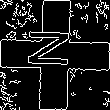N_E: (29, 34, 81, 76)
